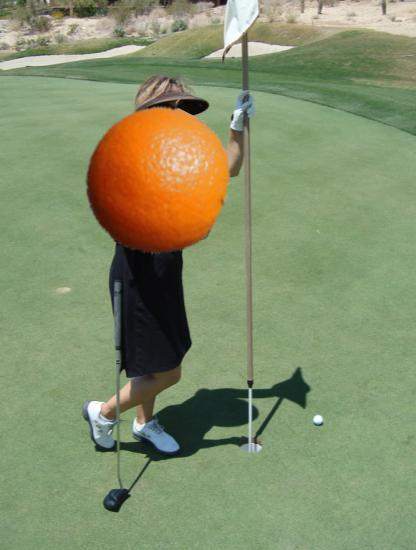Orange: (83, 106, 231, 254)
